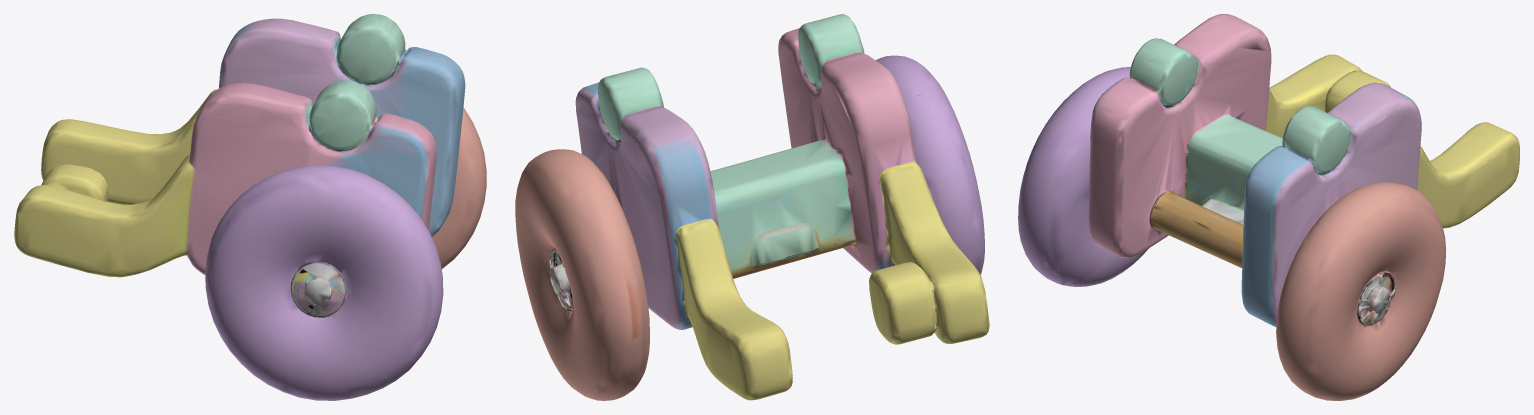
The picture shows the model from 3 angles, left to right: view 1: azimuth 30°, elevation 25°; view 2: azimuth 150°, elevation 25°; view 3: azimuth 270°, elevation 25°; orthographic projection. The views are drawn at different scales.
Visible parts, largest first — view 1: repaired; view 2: repaired; view 3: repaired.
Boxes of the visible parts, left/top/right/bottom form: repaired: left=14, top=14, right=486, bottom=400; repaired: left=515, top=14, right=989, bottom=400; repaired: left=1018, top=14, right=1519, bottom=400.
Size of the model in its own units: 0.9995 by 0.643 by 1.
1 material, 1 textured.
